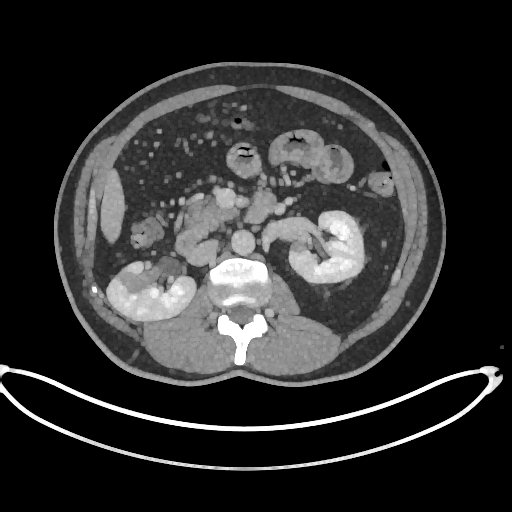Lesion: (119, 267, 156, 296)
